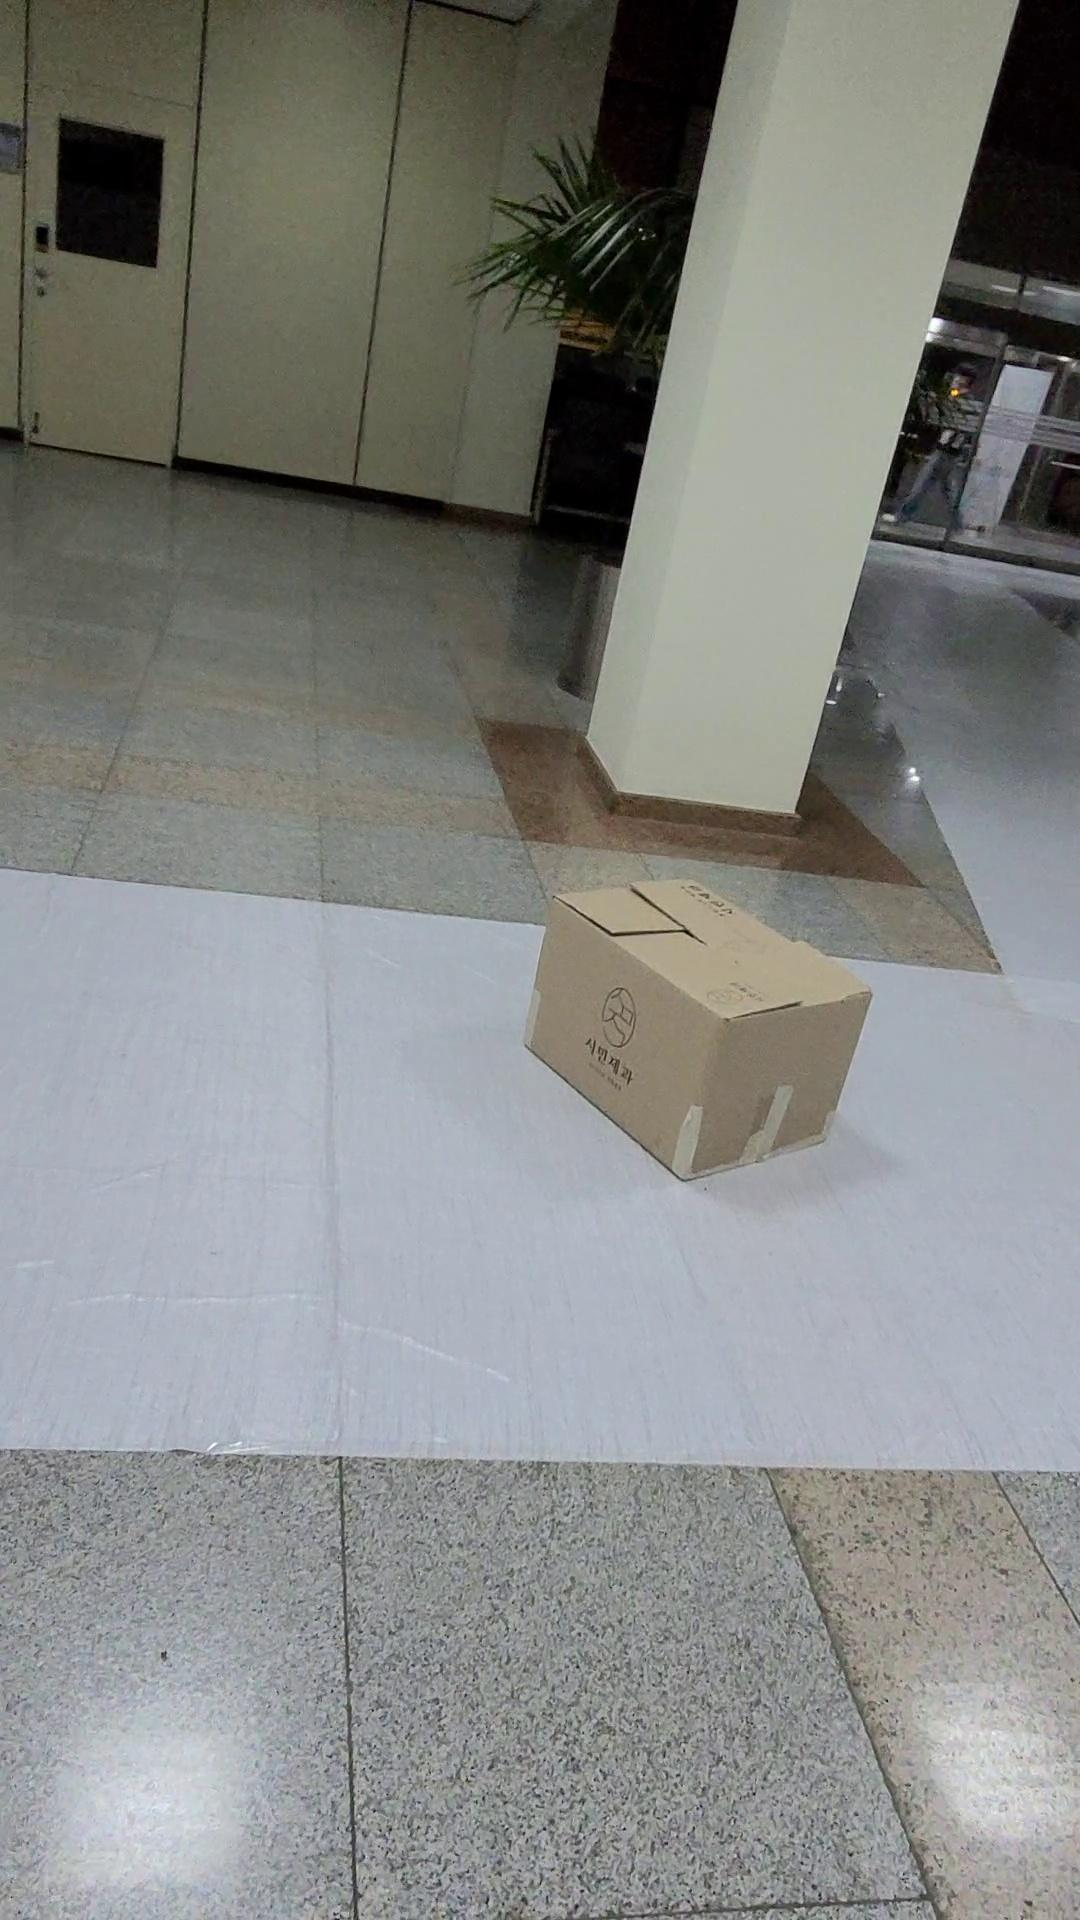Box: (502, 858, 894, 1200)
